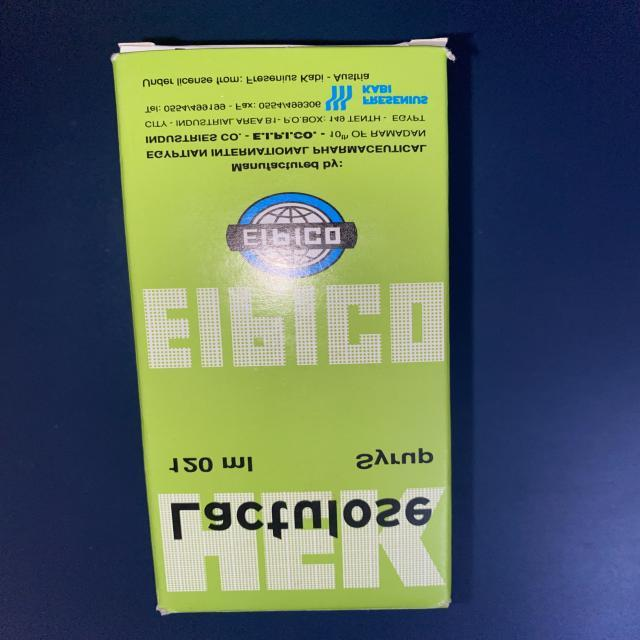Medicine Name: (166, 489, 440, 545)
